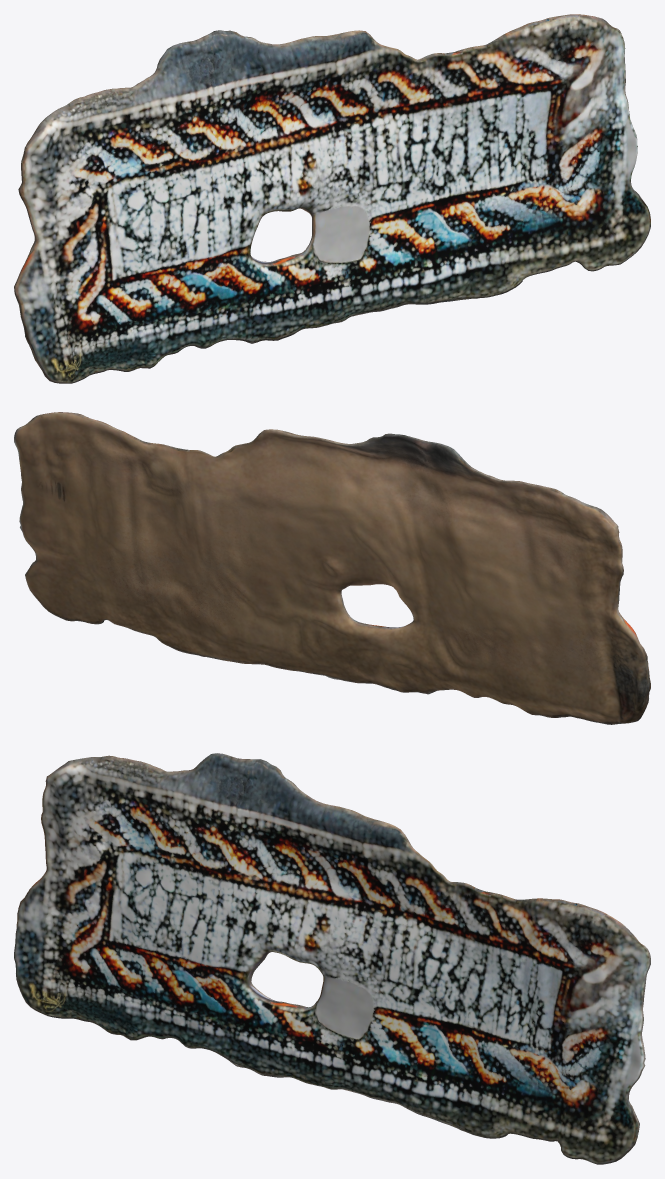
File: primary.glb
3 renders of one model, top to bottom at view 1: azimuth 30°, elevation 25°; view 2: azimuth 150°, elevation 25°; view 3: azimuth 330°, elevation 25°, orthographic. The views are drawn at different scales.
Bounding box in the file's own units: 2 × 0.9178 × 0.2199.
1 material, 1 textured.
